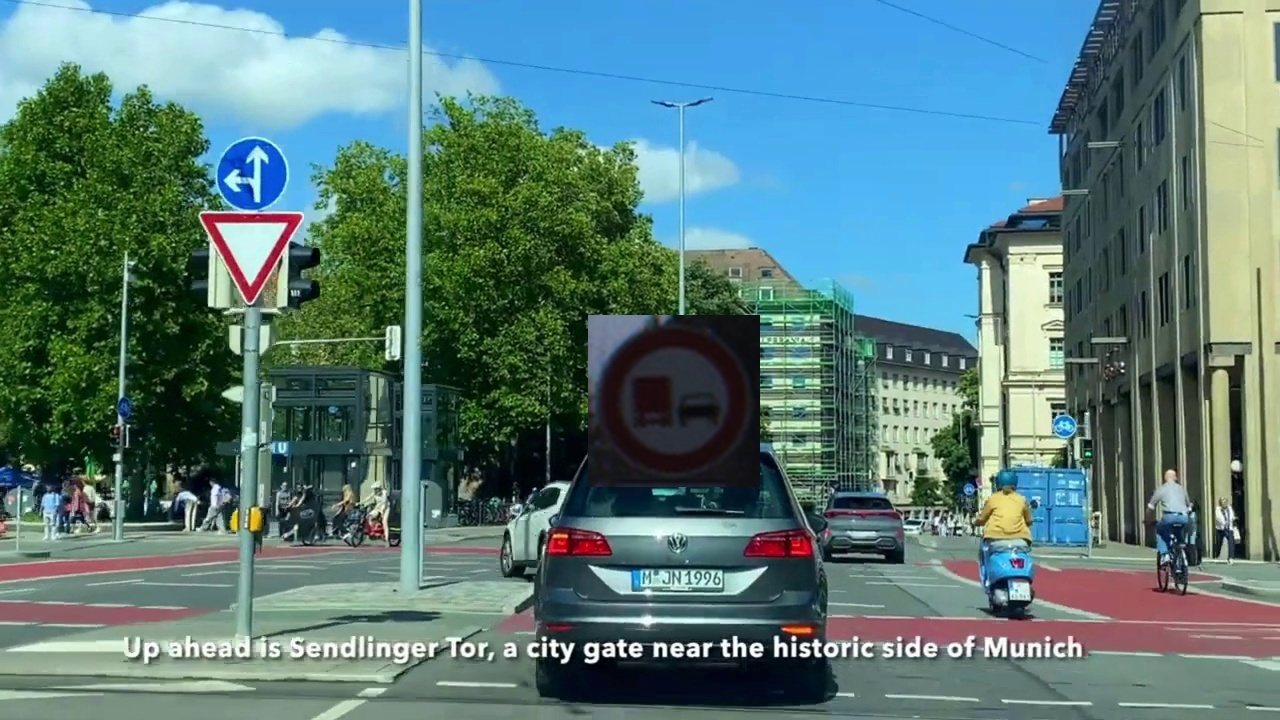No pass >3.5t: (588, 315, 760, 487)
